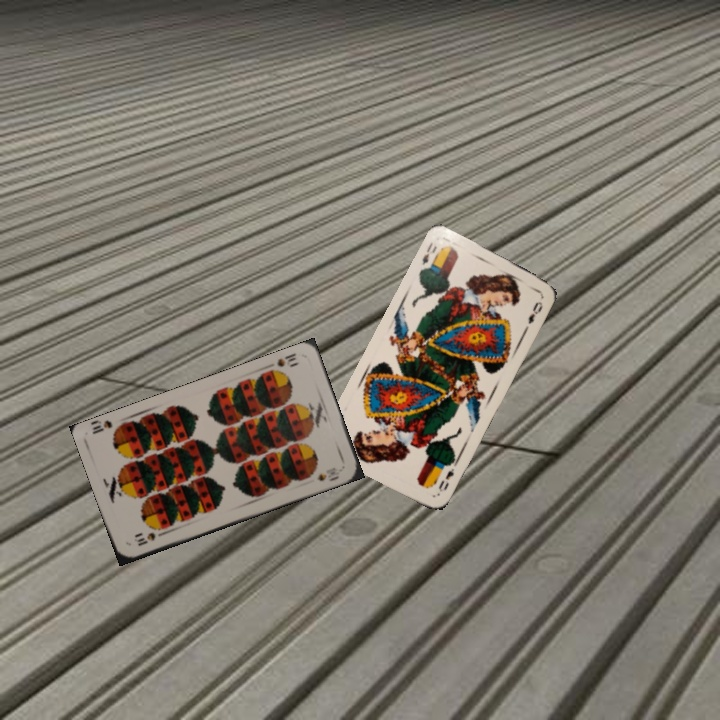EO: (434, 458, 457, 494), (418, 238, 440, 268)
S10: (130, 528, 167, 549), (273, 349, 301, 370)
